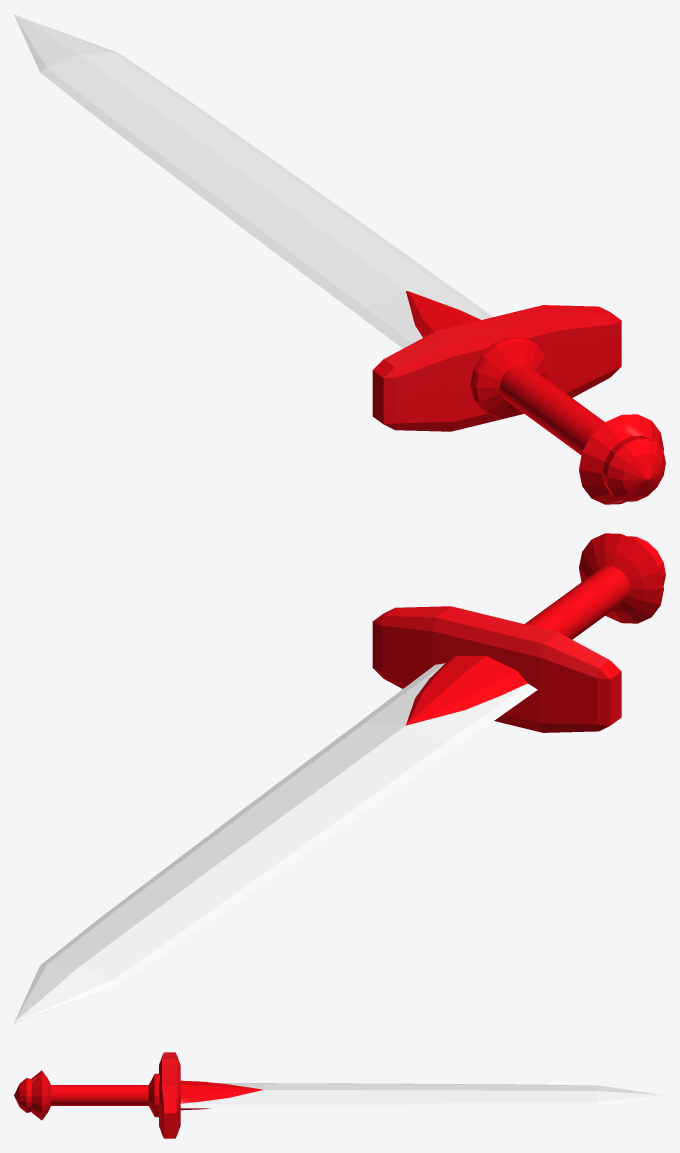
The model's file is Sword.fbx.
3 renders of one model, top to bottom at view 1: azimuth 30°, elevation 25°; view 2: azimuth 150°, elevation 25°; view 3: azimuth 270°, elevation 25°, orthographic. The views are drawn at different scales.
Parts seen in each view (by area): view 1: Sword; view 2: Sword; view 3: Sword.
Boxes of the visible parts, x1=… form: Sword: x1=14, y1=14, x2=665, y2=504; Sword: x1=14, y1=533, x2=665, y2=1023; Sword: x1=14, y1=1052, x2=665, y2=1138.
Bounding box in the file's own units: 979 × 351 × 4527.
1 material, 1 textured.
